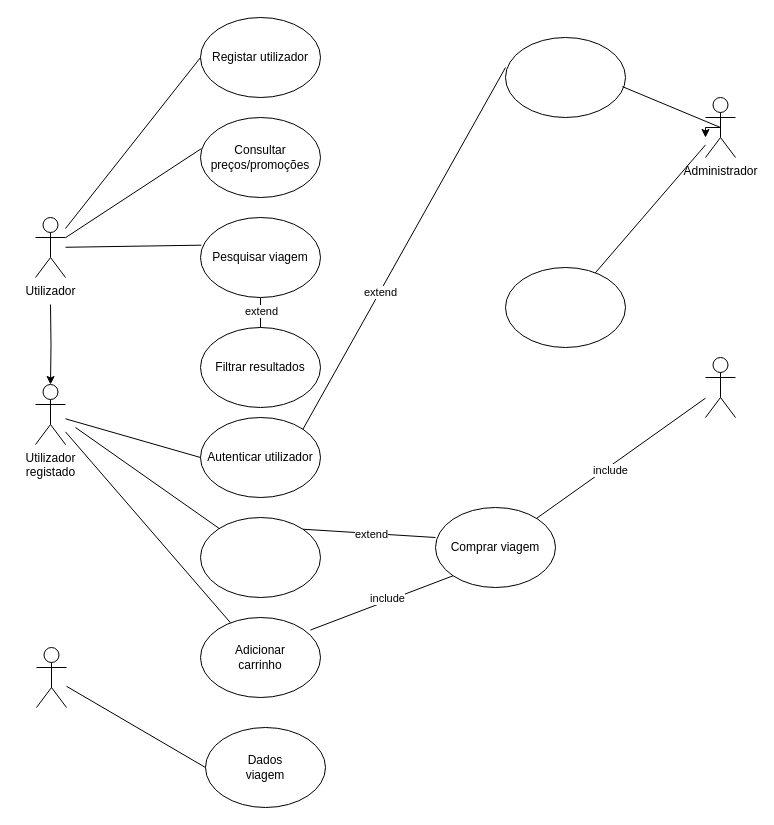
Some shapes in this 774 by 825 pixel diagram are drawn without their labels. Here are the shapes that lost their labels. From the top down, the box of each, then its label:
(504, 36, 626, 118): Consultar programa de fidelização
(504, 266, 626, 348): Gerir promoções e pacotes de viagens
(704, 356, 736, 418): Sistema pagamento
(200, 516, 320, 598): Gerir reserva
(36, 646, 66, 708): Empresa de Transportes
